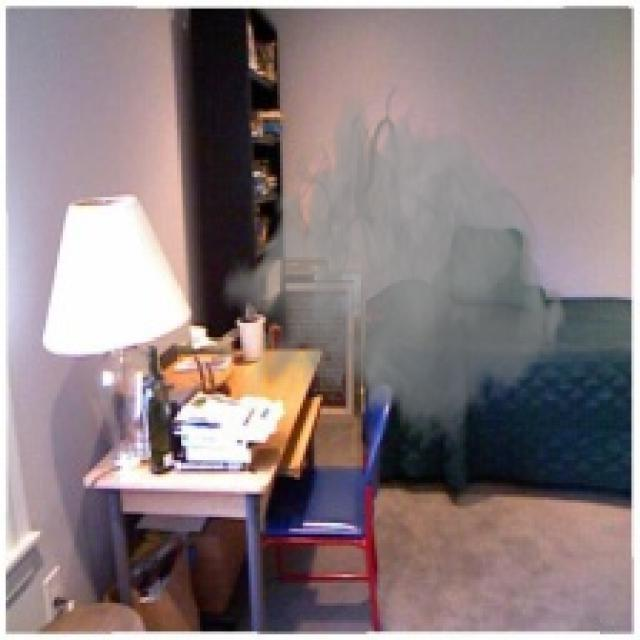Smoke: (220, 80, 569, 474)
